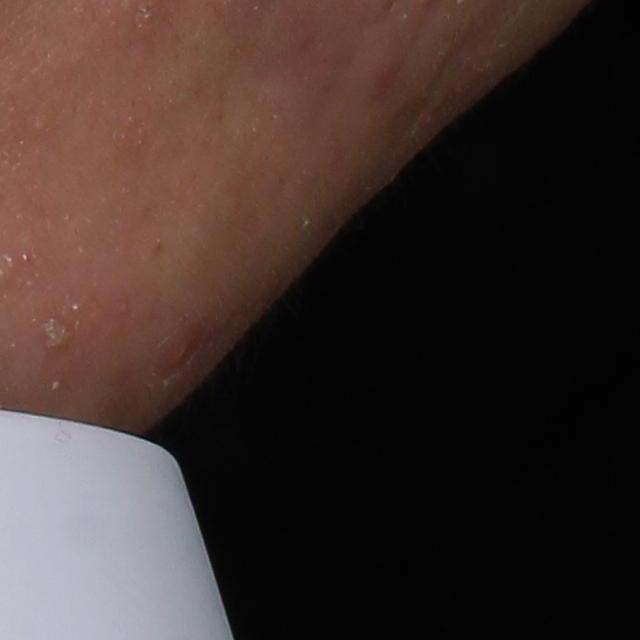papule: (156, 324, 199, 377)
